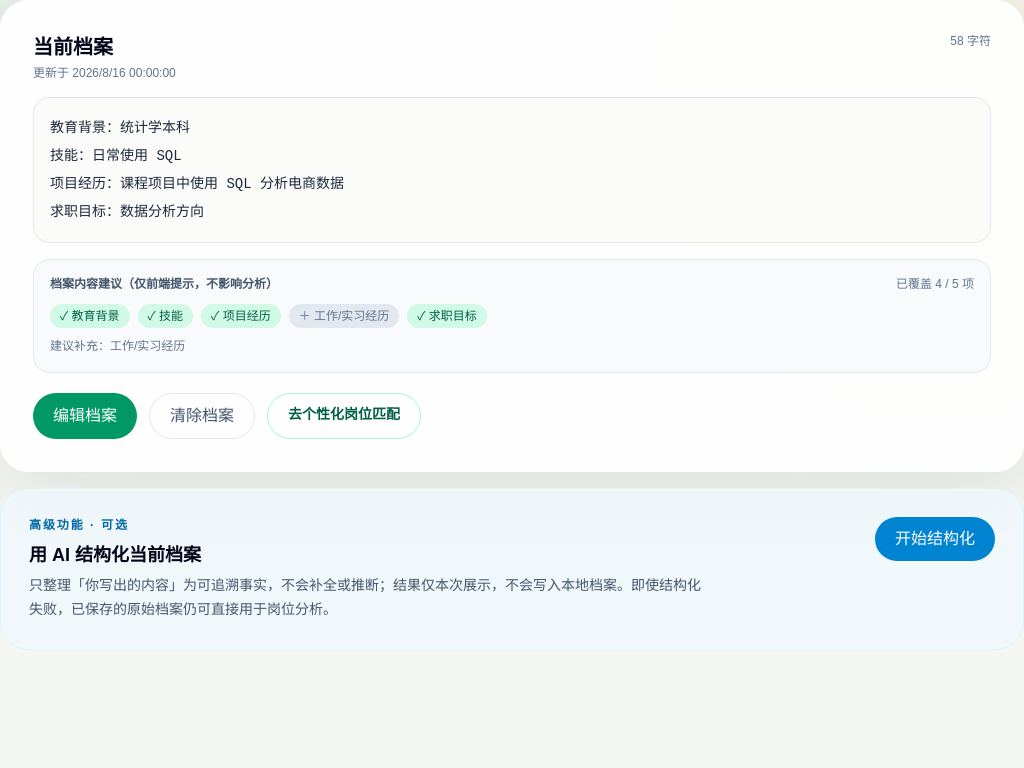
ProfileManager › runs auxiliary AI structuring without persisting derived data
The width and height of the screenshot is (1024, 768).
Step 1. Click the button "开始结构化" → [935, 539], box [875,517,995,561]
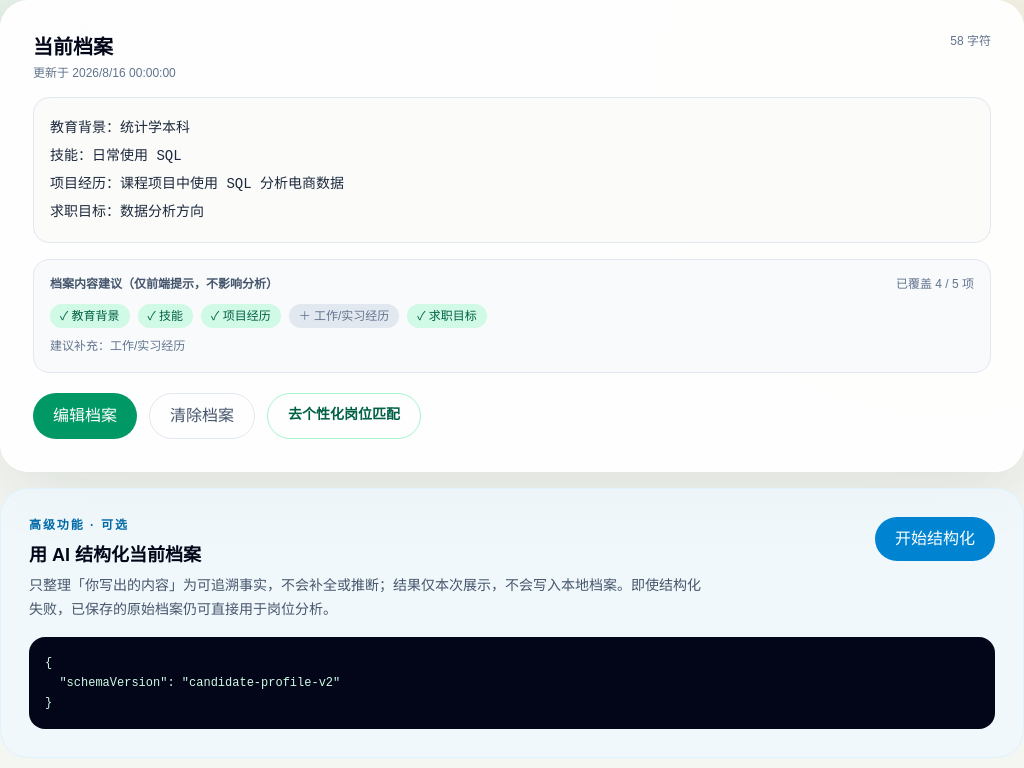
Check: the text "{ \"schemaVersion\": \"candidate-profile-v2\" }" is shown, box [29,637,995,729]
